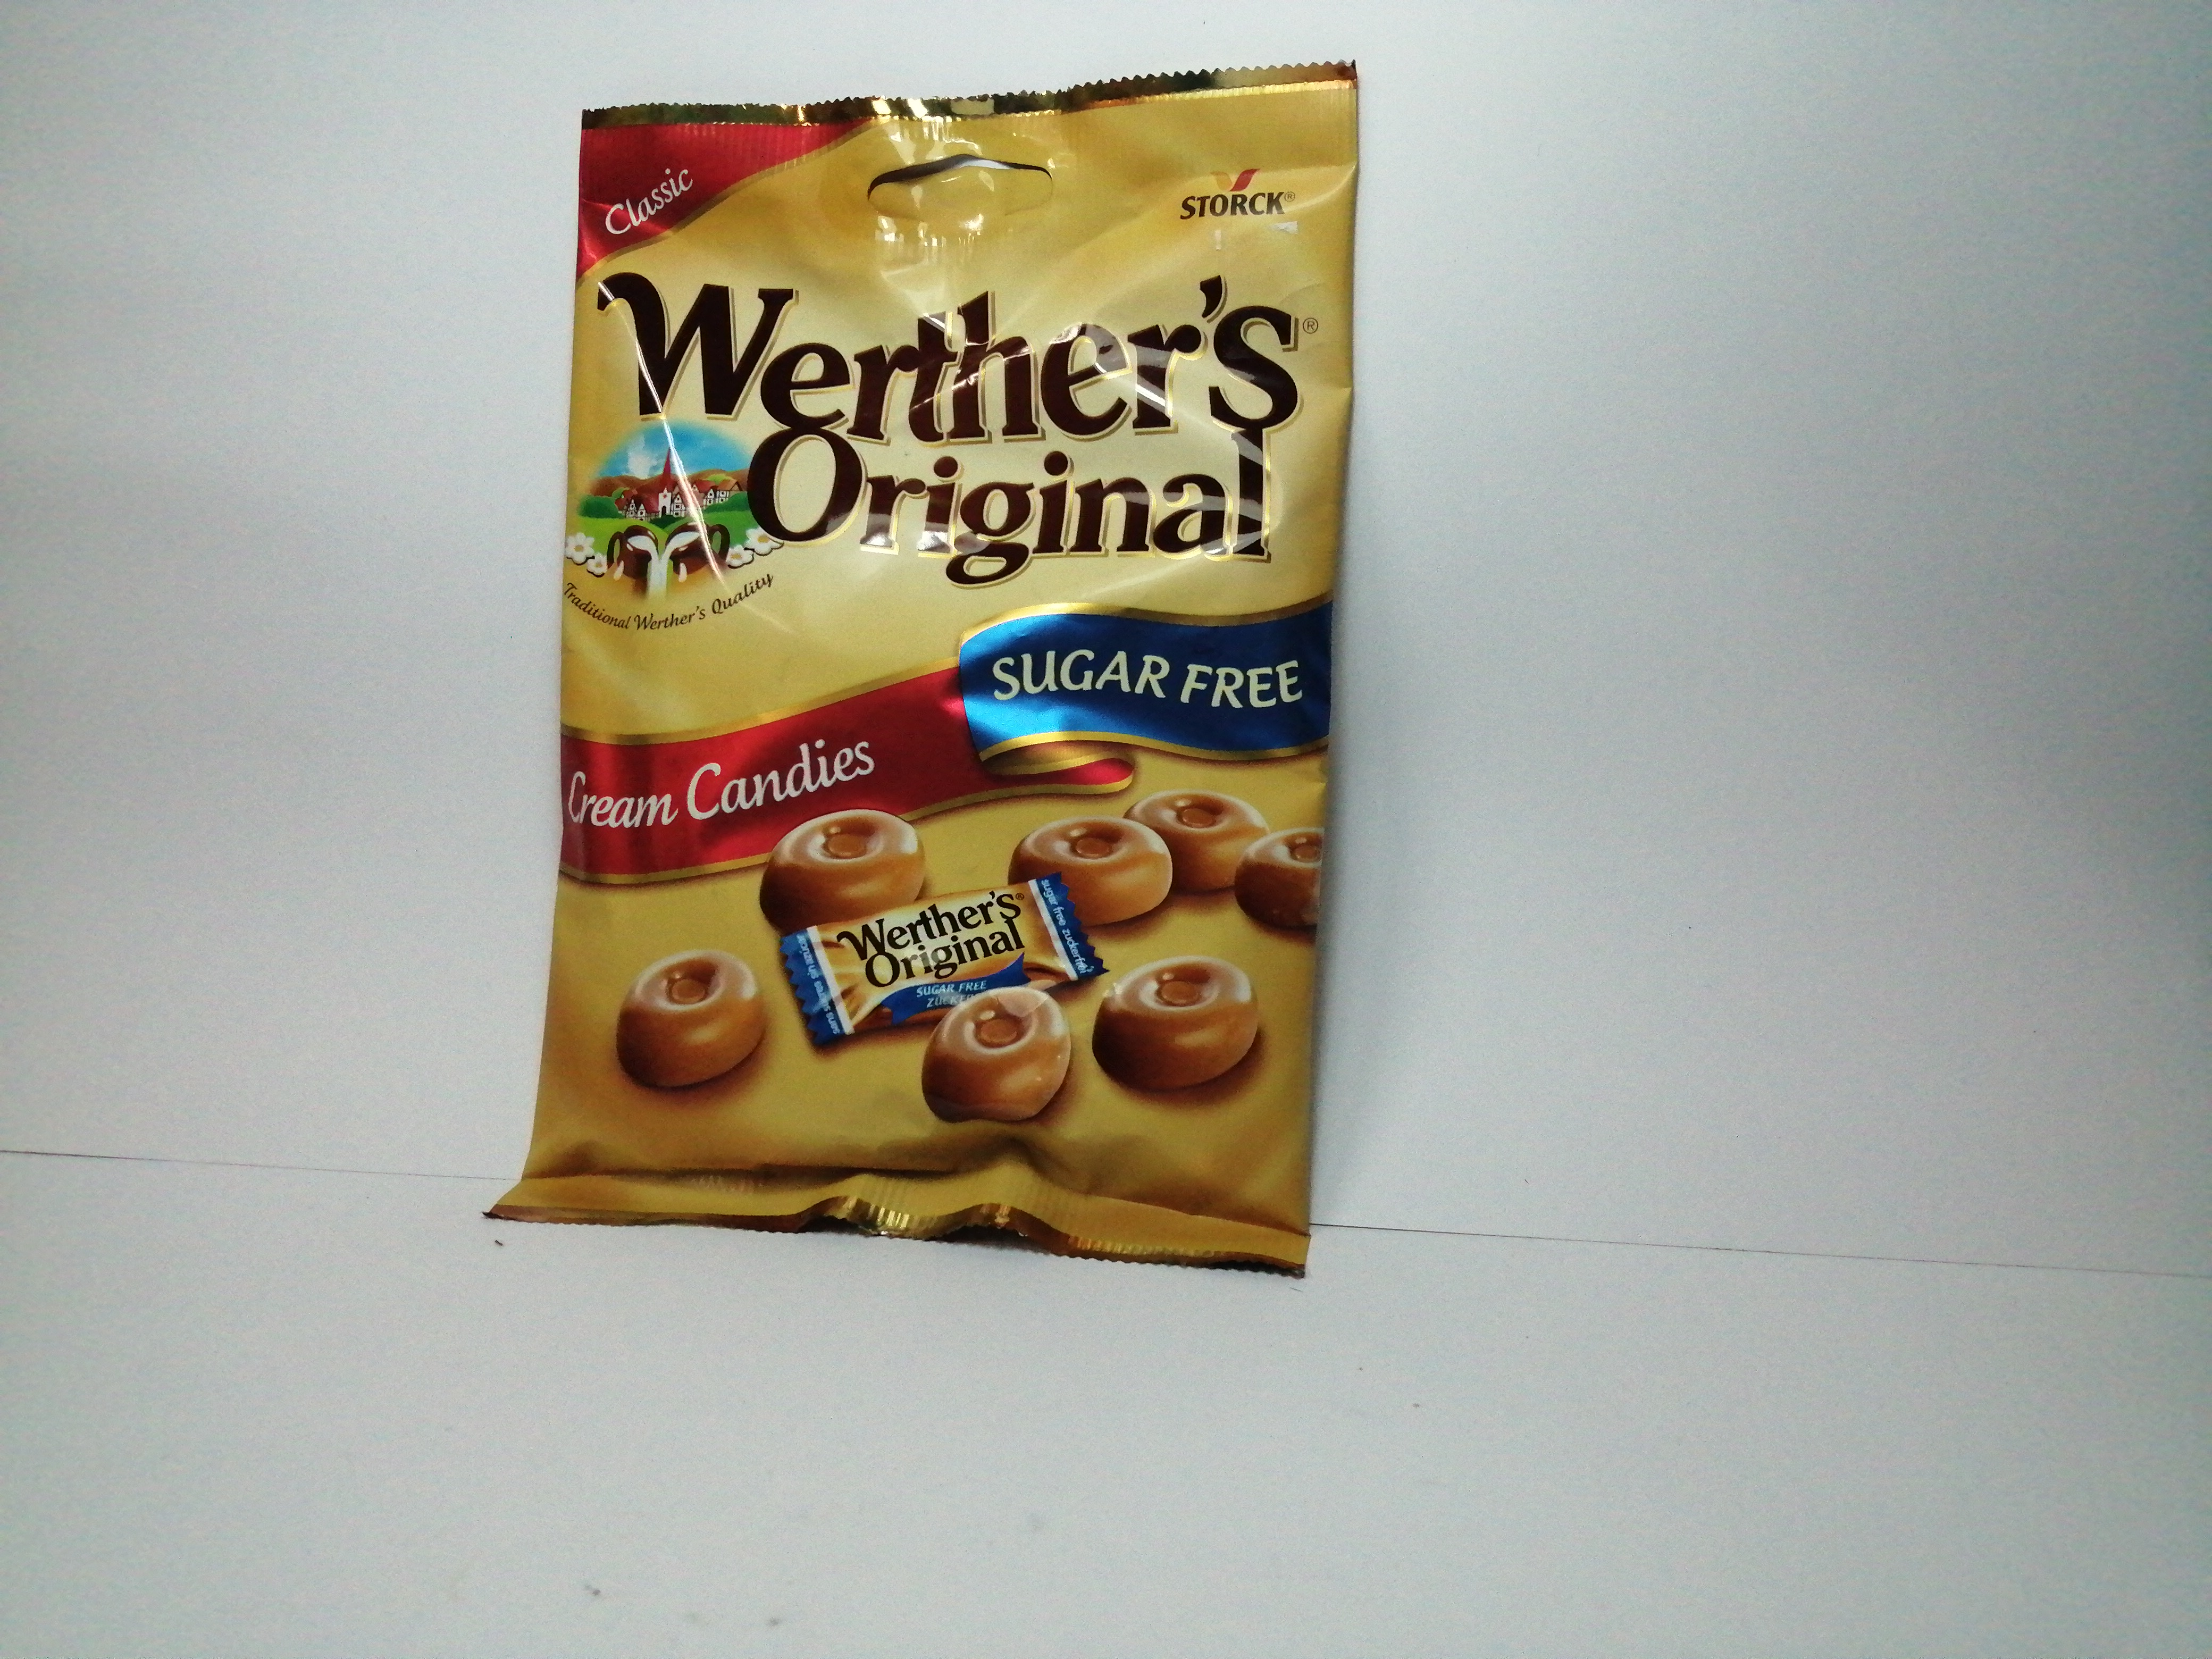dulces: (484, 52, 1366, 1283)
